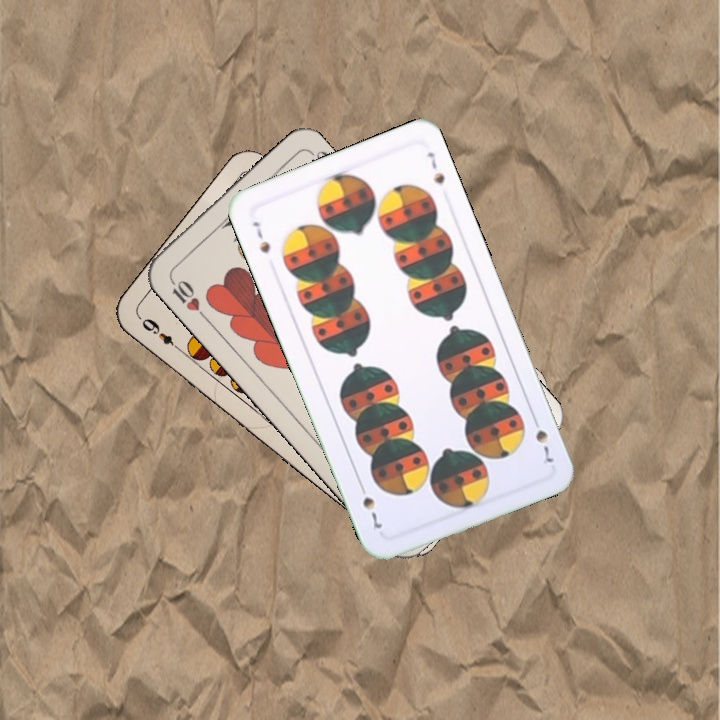E9: (135, 313, 186, 355)
H10: (165, 272, 209, 321)
S7: (528, 411, 557, 466), (248, 217, 273, 256)
